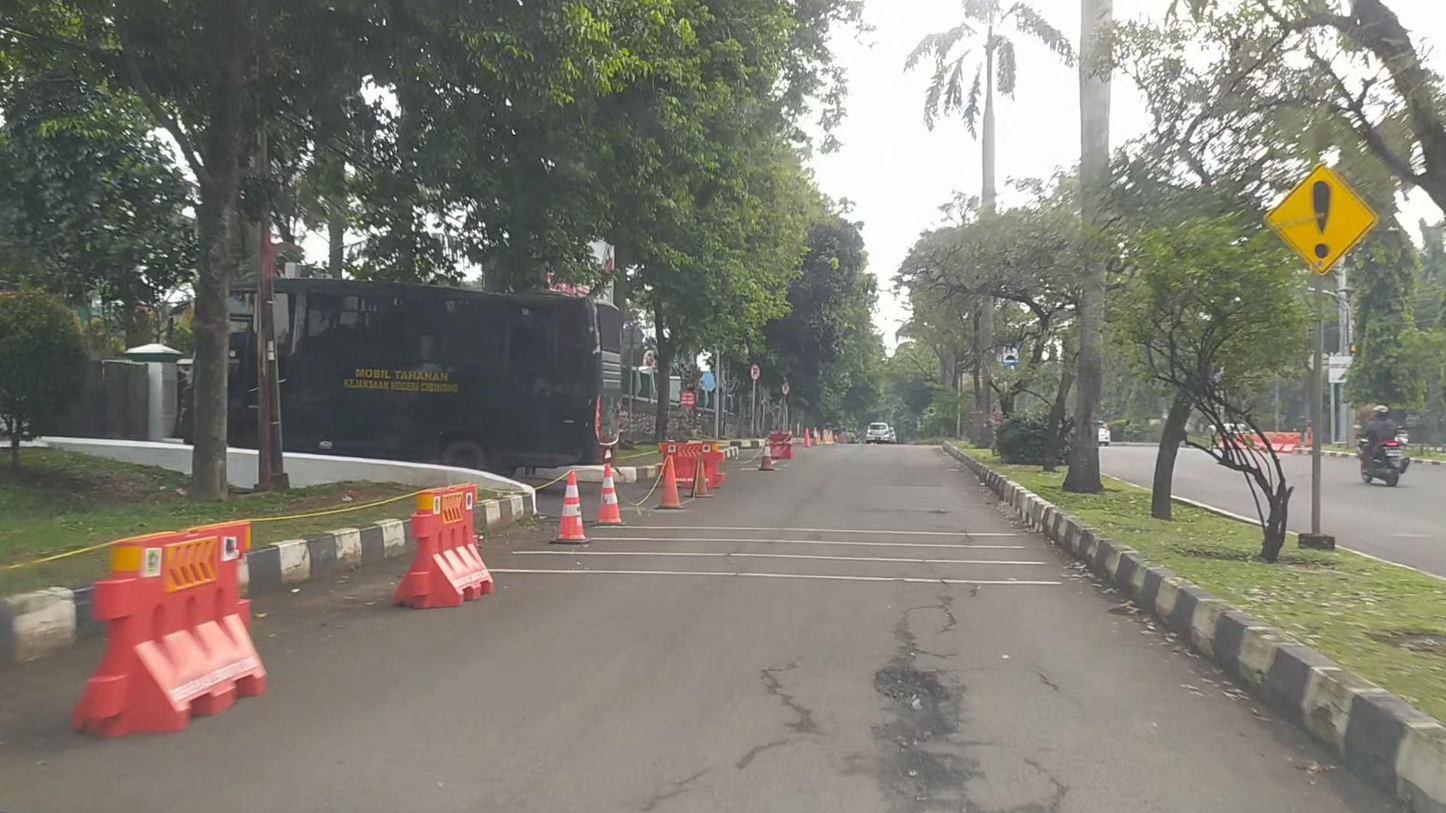pothole: (875, 655, 954, 792)
